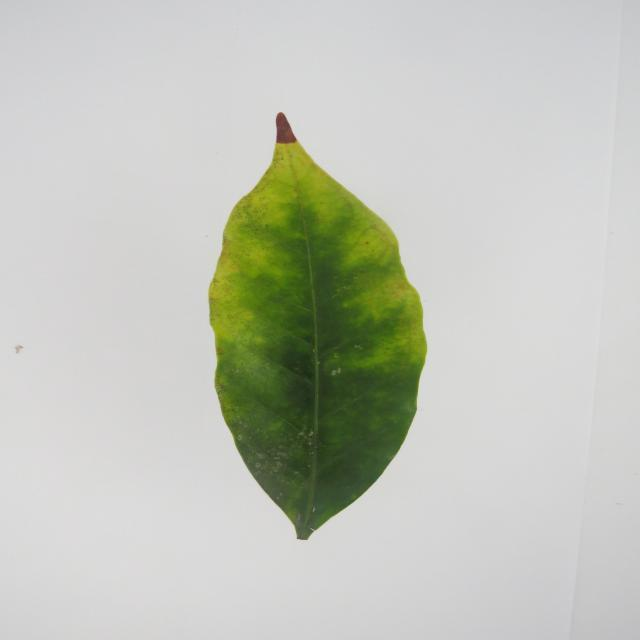DeficienciaNutricional-Potasio: (208, 114, 427, 540)
